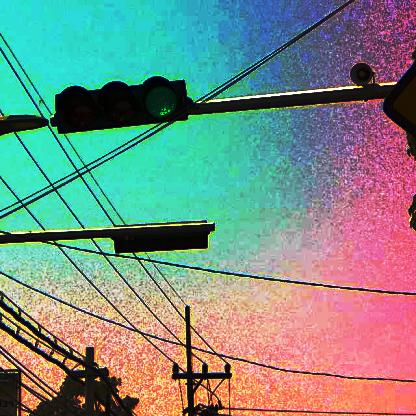Traffic Light -Green-: (55, 76, 193, 139)
